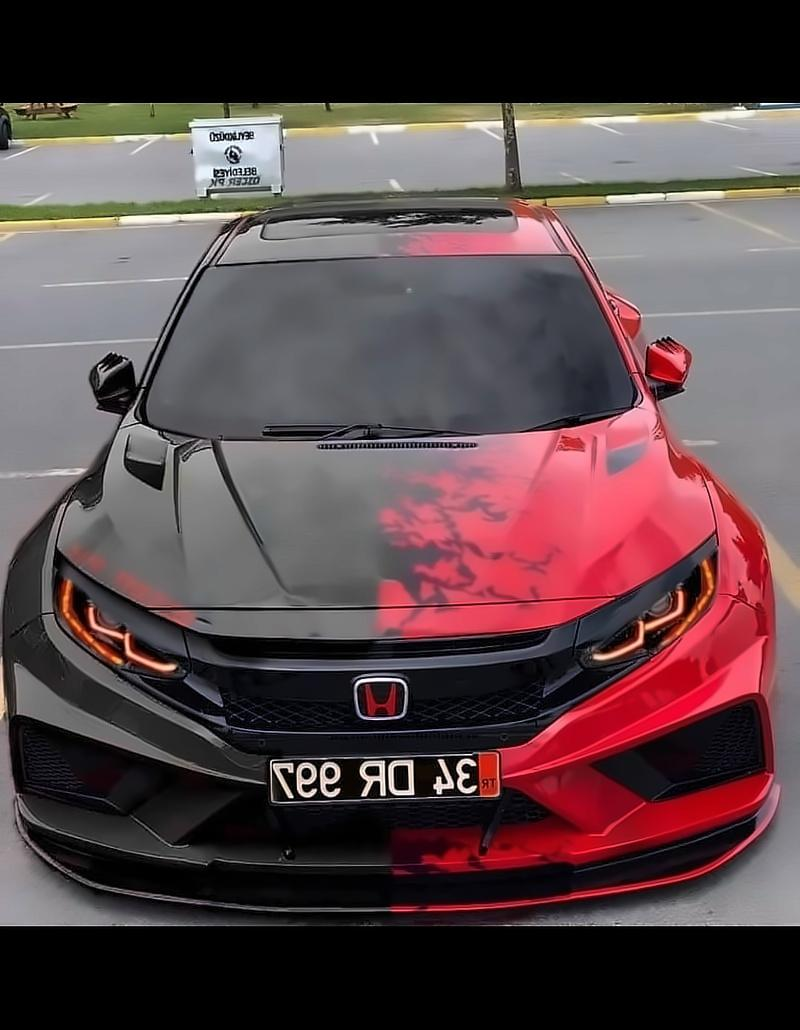Car hood: (52, 405, 728, 647)
Front bumper: (0, 604, 787, 919)
Headlight - -L-: (570, 544, 736, 679)
Headlight - -R-: (45, 564, 199, 688)
Side mirror - -L-: (635, 329, 704, 412)
Side mirror - -R-: (72, 347, 145, 424)
